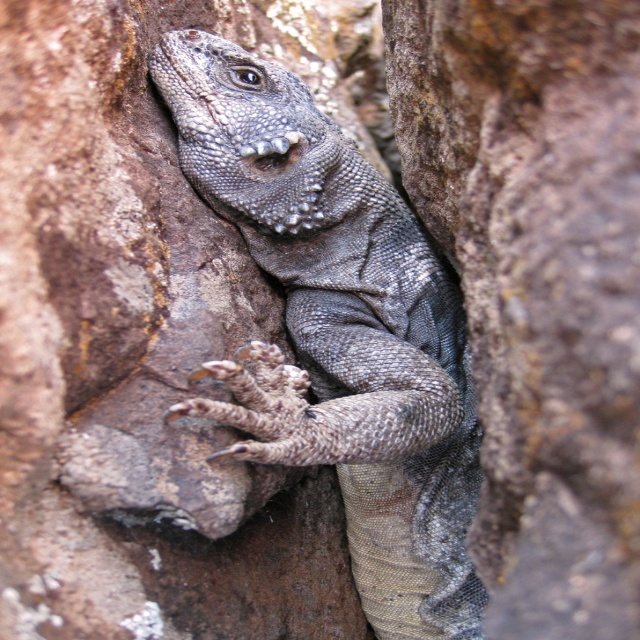Lizard: (130, 20, 507, 619)
